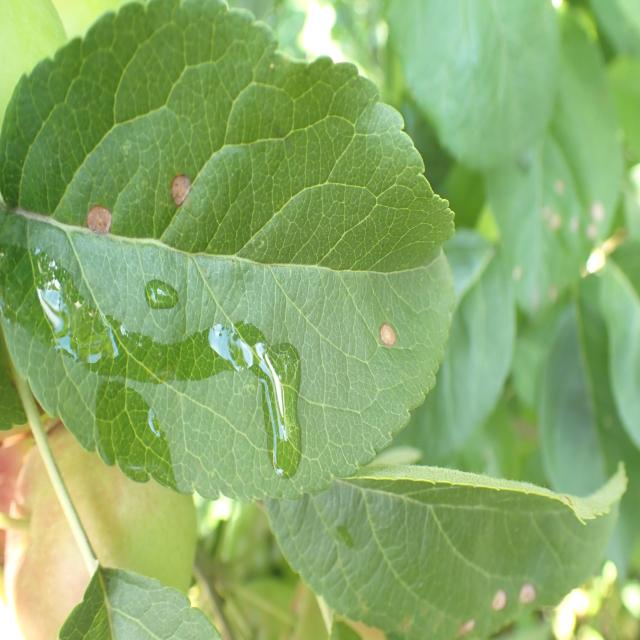Black Rot: (70, 180, 124, 259), (364, 296, 402, 375), (168, 145, 200, 219)
